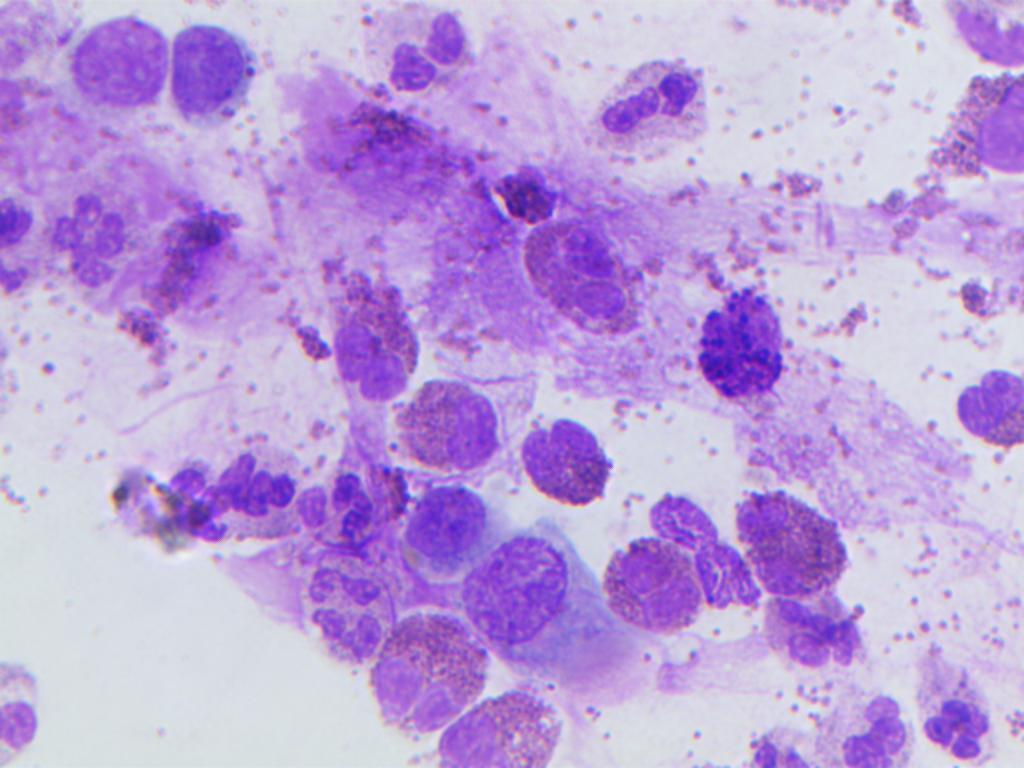artifact: (102, 456, 182, 558)
eosinophil: (507, 207, 657, 343), (732, 479, 861, 617), (352, 609, 492, 734), (415, 666, 582, 768), (922, 50, 1024, 212), (515, 375, 620, 528), (308, 270, 417, 395), (458, 530, 568, 644), (590, 534, 706, 642), (393, 371, 501, 477), (954, 351, 1024, 472)
epithelial: (50, 19, 171, 118), (167, 20, 258, 143), (947, 4, 1024, 72)
mast_cell: (689, 282, 797, 414), (374, 458, 504, 564), (490, 153, 561, 226)
neutrophil: (587, 33, 716, 171), (166, 449, 296, 544), (34, 182, 139, 298), (362, 6, 473, 102), (301, 562, 390, 679), (290, 443, 382, 553), (752, 595, 879, 672), (907, 660, 994, 761), (810, 693, 912, 768), (0, 654, 67, 768), (741, 723, 820, 768)
